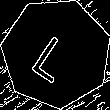L_NE: (29, 23, 83, 83)
